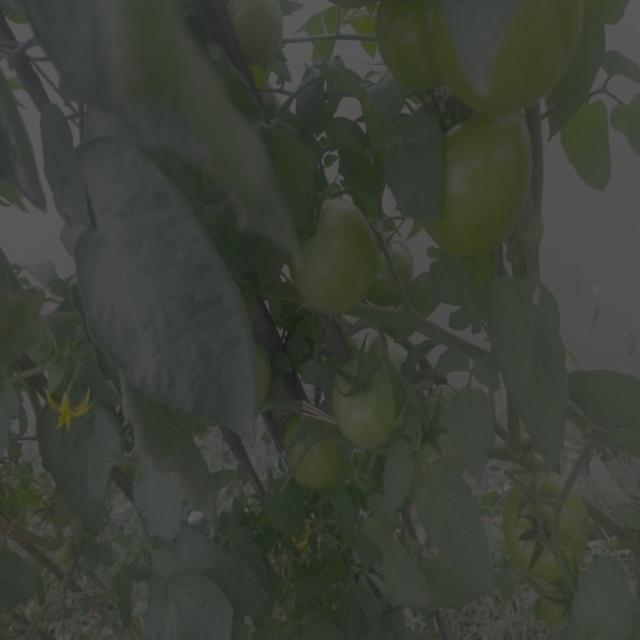tomato: (447, 116, 546, 262), (298, 210, 391, 341), (499, 473, 586, 586), (511, 1, 586, 121), (326, 350, 404, 450), (375, 1, 453, 92), (269, 415, 359, 489), (277, 118, 337, 224), (244, 1, 296, 67), (419, 389, 448, 462)
